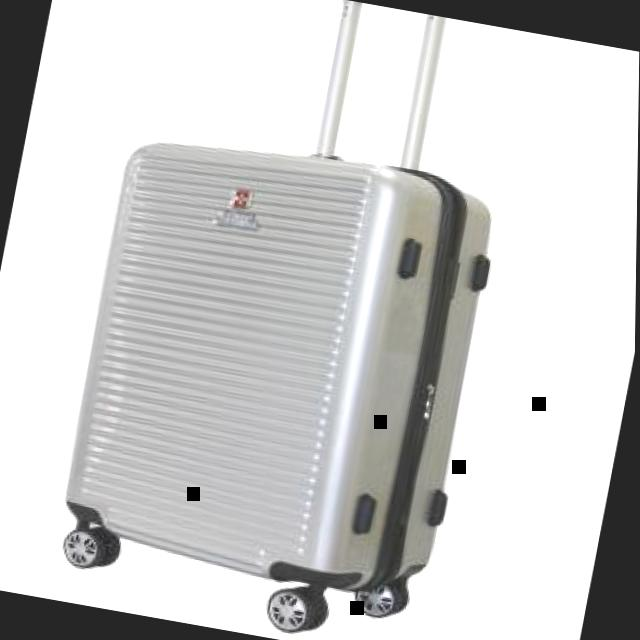luggage: (32, 107, 530, 620)
